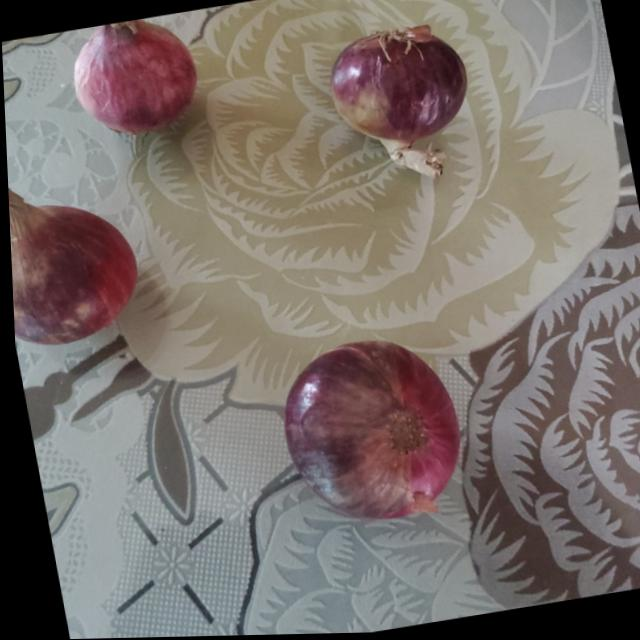onion: (273, 329, 479, 533), (6, 170, 146, 350), (324, 21, 477, 154), (68, 13, 207, 142)
